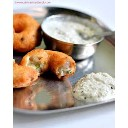vada: (22, 49, 76, 78), (14, 13, 41, 51)
